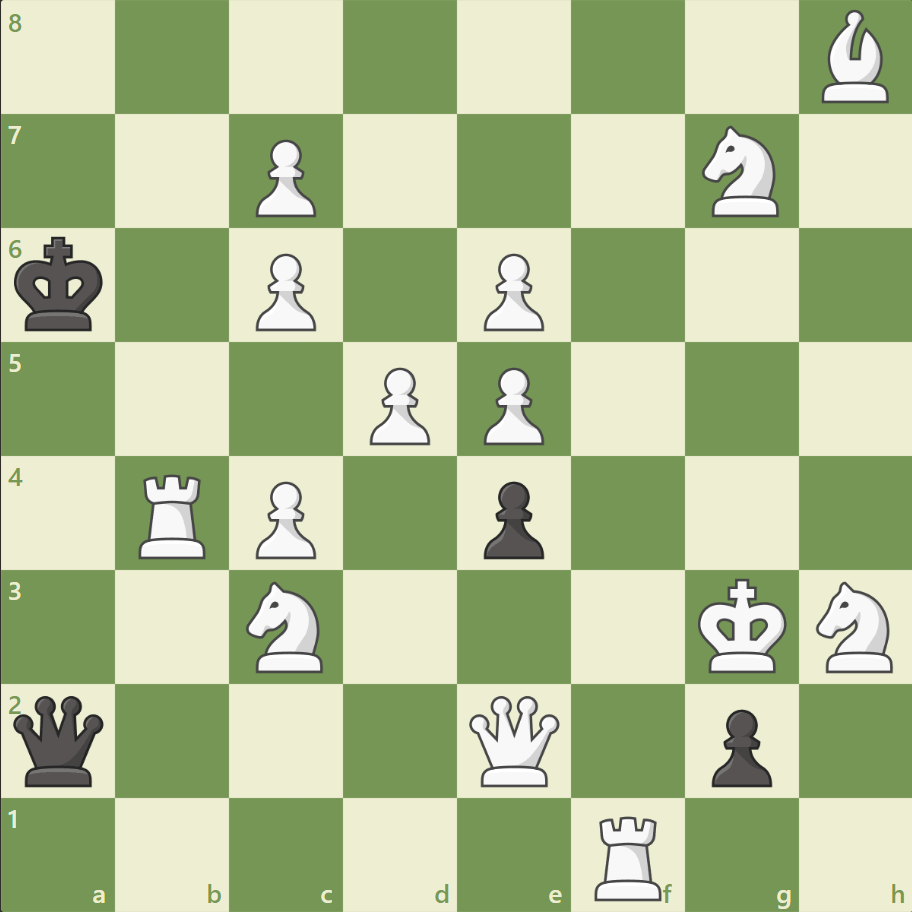B: (812, 6, 896, 109)
K: (692, 571, 792, 679)
N: (692, 121, 789, 223), (238, 575, 335, 677), (806, 575, 903, 677)
P: (247, 132, 322, 223), (247, 246, 322, 337), (474, 246, 549, 337), (474, 359, 549, 450), (247, 473, 322, 564), (361, 359, 435, 450)
Q: (464, 690, 563, 789)
R: (587, 806, 670, 904), (133, 466, 215, 563)
k: (11, 231, 111, 339)
p: (474, 473, 549, 564), (701, 700, 776, 791)
q: (10, 690, 109, 789)
